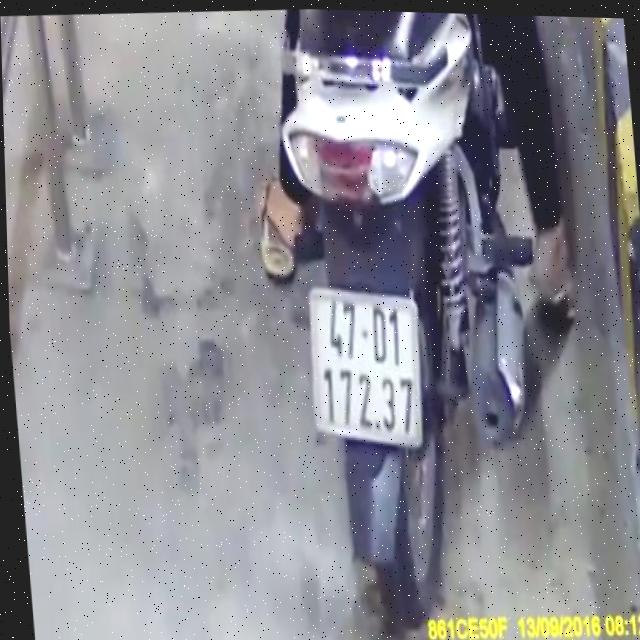motorcycle: (255, 8, 565, 640)
plate: (301, 280, 432, 455)
